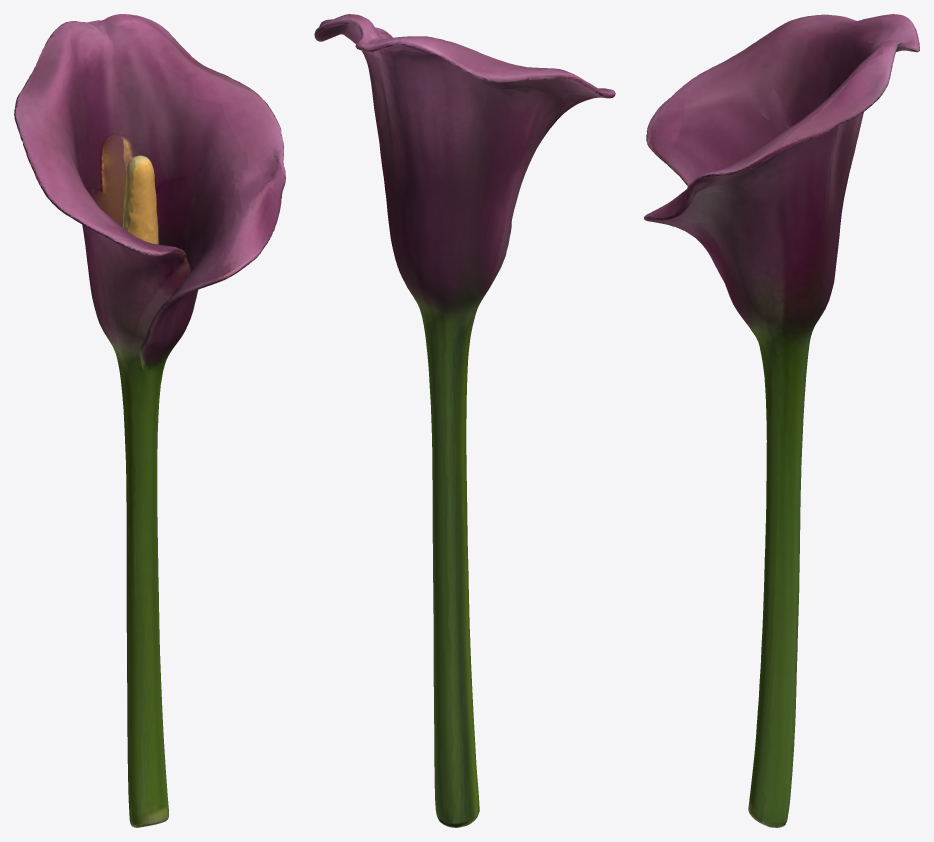
File: lux-calla.glb
3 views of the same model, side by side, from view 1: azimuth 30°, elevation 25°; view 2: azimuth 150°, elevation 25°; view 3: azimuth 270°, elevation 25° (orthographic). The views are drawn at different scales.
Visible parts, largest first — view 1: geometry_0; view 2: geometry_0; view 3: geometry_0.
Boxes of the visible parts, <box> form: geometry_0: <box>14,14,285,827</box>; geometry_0: <box>314,14,615,827</box>; geometry_0: <box>644,14,919,827</box>.
Bounding box in the file's own units: 0.1974 × 0.6 × 0.1883.
Materials: 1 (1 with a texture image).
